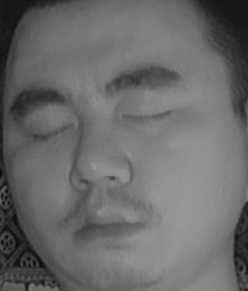blink: (121, 97, 174, 135), (30, 114, 74, 147)
mouth: (68, 201, 142, 251)
